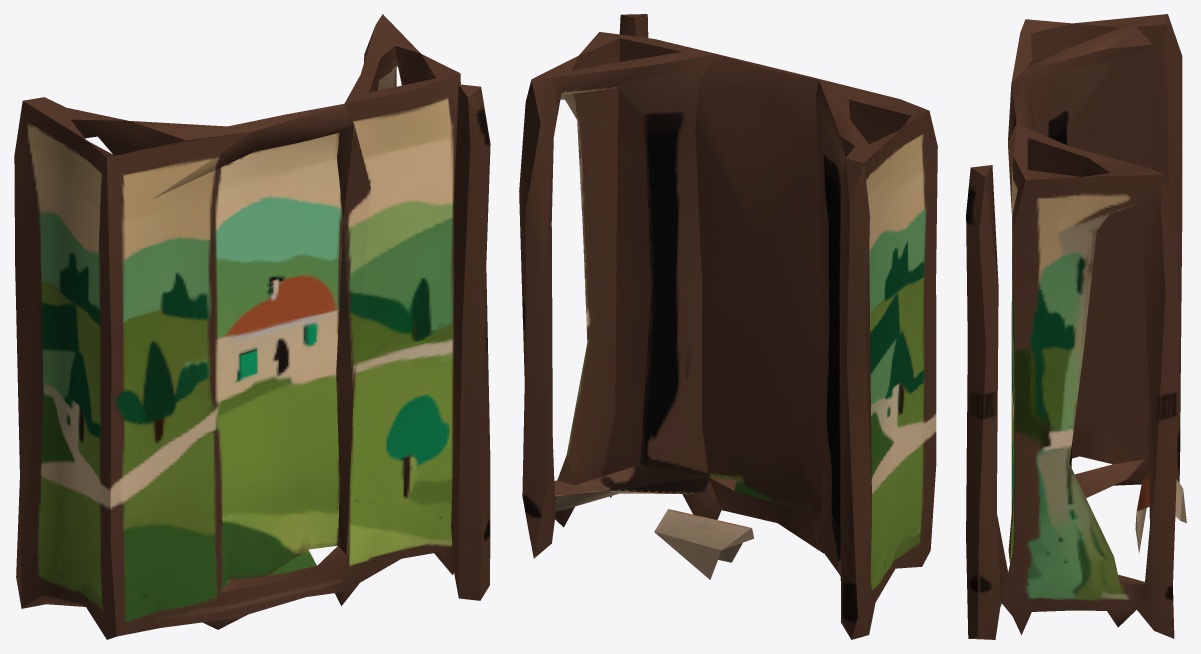
Rendered from italian-fresco-screen.glb.
3 views of the same model, side by side, from view 1: azimuth 30°, elevation 25°; view 2: azimuth 150°, elevation 25°; view 3: azimuth 270°, elevation 25° (orthographic). The views are drawn at different scales.
Visible parts, largest first — view 1: geometry_0; view 2: geometry_0; view 3: geometry_0.
Part boxes in pixels (x1,y1,x2,y2): geometry_0: (14, 14, 490, 639); geometry_0: (519, 14, 937, 639); geometry_0: (966, 14, 1186, 639).
Bounding box in the file's own units: 0.7748 × 1 × 0.4251.
1 material, 1 textured.
